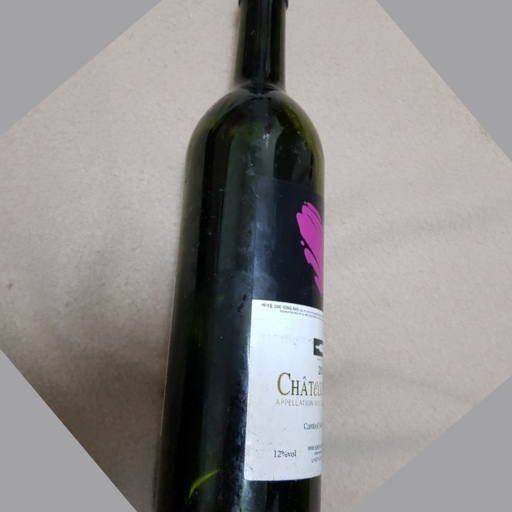Glass_2: (137, 1, 331, 512)
